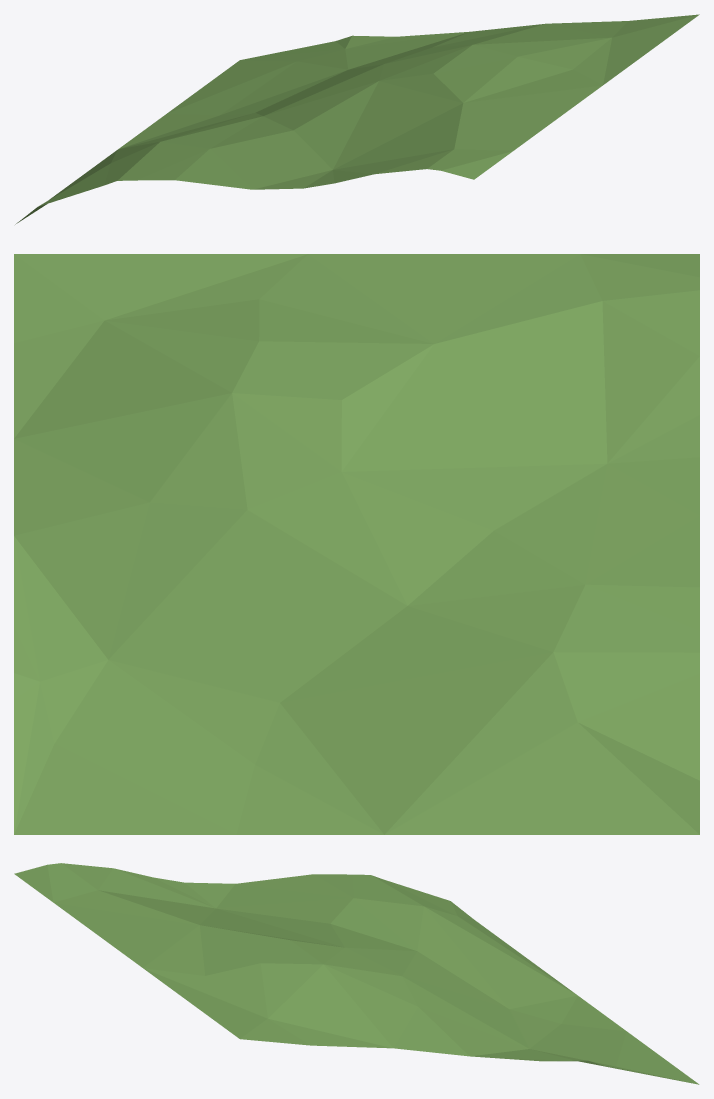
Rendered from Bridge.D1.1.fbx.
3 views of the same model, one above another, from view 1: azimuth 30°, elevation 25°; view 2: azimuth 150°, elevation 25°; view 3: azimuth 270°, elevation 25° (orthographic). The views are drawn at different scales.
Visible parts, largest first — view 1: hill_conn.002; view 2: hill_conn.002; view 3: hill_conn.002.
Boxes of the visible parts, x1,y1,x2,y2 form: hill_conn.002: (15, 14, 699, 224); hill_conn.002: (14, 254, 699, 834); hill_conn.002: (14, 863, 699, 1084).
Size of the model in its own units: 0.7538 by 0.7872 by 0.2012.
